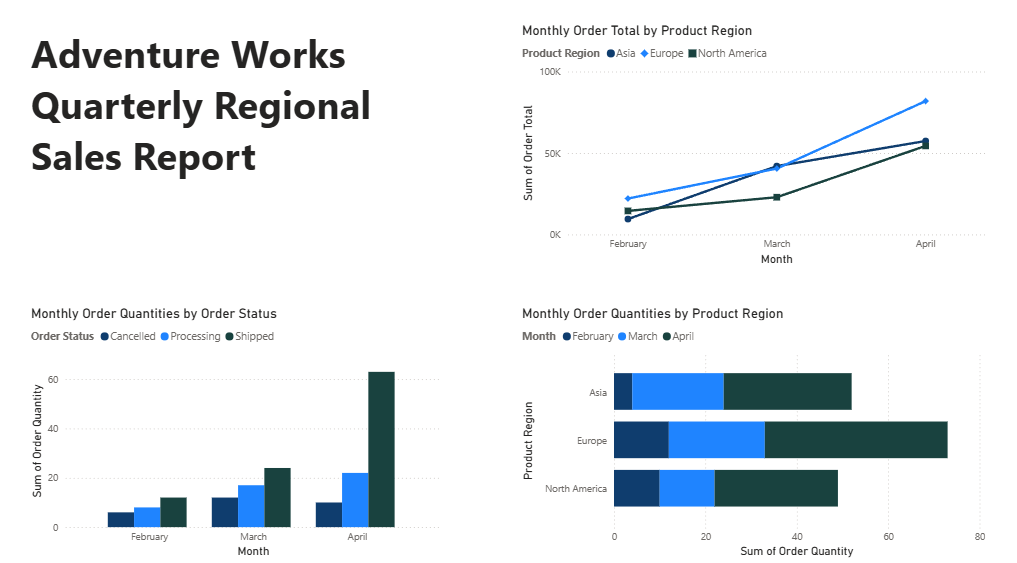

The page's visual inventory and layout, read from the dashboard file:
{"tool":"powerbi","page":{"name":"Page 1","canvas":[1280,720],"ordinal":0},"visuals":[{"type":"textbox","box":[36.2,29.8,522.2,309.5],"z":0},{"type":"lineChart","title":"Monthly Order Total by Product Region","fields":{"Category":["Sales.Month"],"Y":["Sum(Sales.Order Total)"],"Series":["Sales.Product Region"]},"box":[650,30,589,309],"z":1000},{"type":"clusteredColumnChart","title":"Monthly Order Quantities by Order Status","fields":{"Category":["Sales.Month"],"Y":["Sum(Sales.Order Quantity)"],"Series":["Sales.Order Status"]},"box":[36,384,522,321],"z":2000},{"type":"barChart","title":"Monthly Order Quantities by Product Region","fields":{"Category":["Sales.Product Region"],"Y":["Sum(Sales.Order Quantity)"],"Series":["Sales.Order Date.Variation.Date Hierarchy.Month"]},"box":[650,384,589,321],"z":3000}]}

Visuals, with their boxes in screenshot pixels (x1, y1, x2, y2), scaled from the page's 1280x720 canvas onto the 1017x563 screenshot:
textbox: (left=29, top=23, right=444, bottom=265)
"Monthly Order Total by Product Region" lineChart: (left=516, top=23, right=984, bottom=265)
"Monthly Order Quantities by Order Status" clusteredColumnChart: (left=29, top=300, right=443, bottom=551)
"Monthly Order Quantities by Product Region" barChart: (left=516, top=300, right=984, bottom=551)
